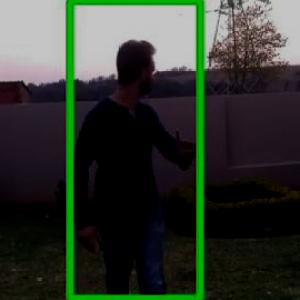takeoff-hand: (165, 121, 209, 167)
